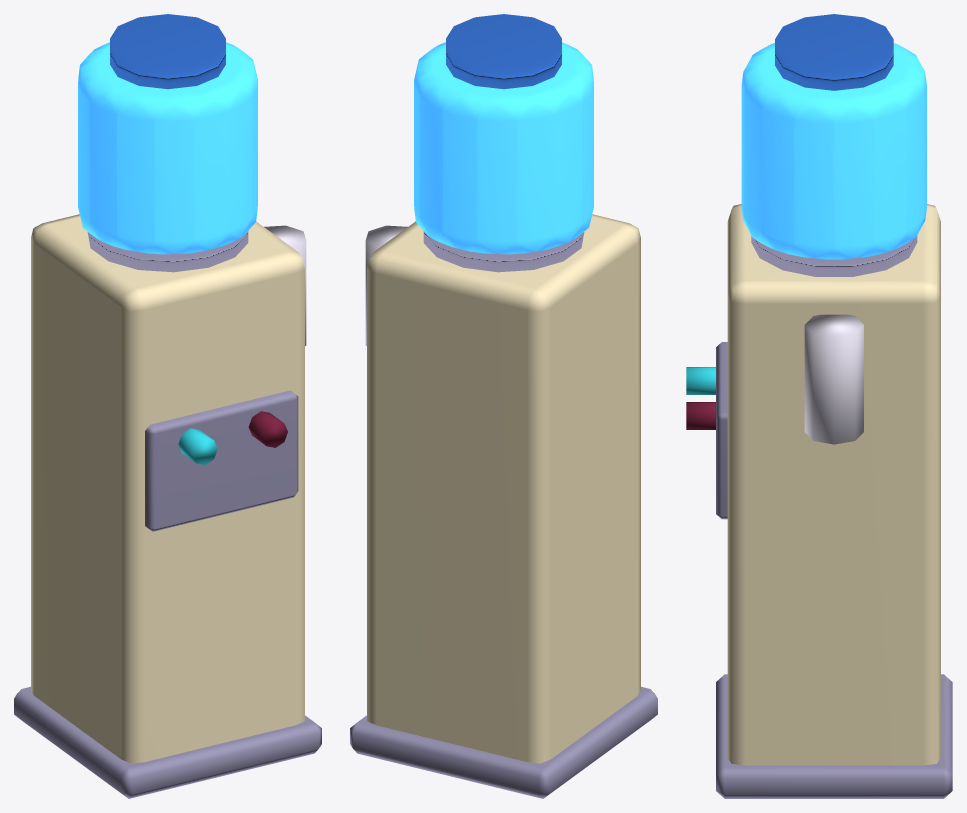
File: water_cooler.glb
3 views of the same model, side by side, from view 1: azimuth 30°, elevation 25°; view 2: azimuth 150°, elevation 25°; view 3: azimuth 270°, elevation 25° (orthographic). The views are drawn at different scales.
Parts seen in each view (by area): view 1: Cooler; view 2: Cooler; view 3: Cooler.
Boxes of the visible parts, <box> form: Cooler: <box>14,14,321,798</box>; Cooler: <box>350,14,657,798</box>; Cooler: <box>686,14,952,798</box>.
Bounding box in the file's own units: 0.47 × 1.33 × 0.45.
